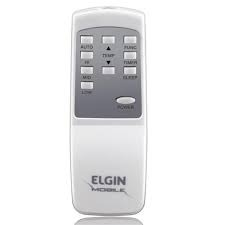remote control: (70, 10, 152, 220)
